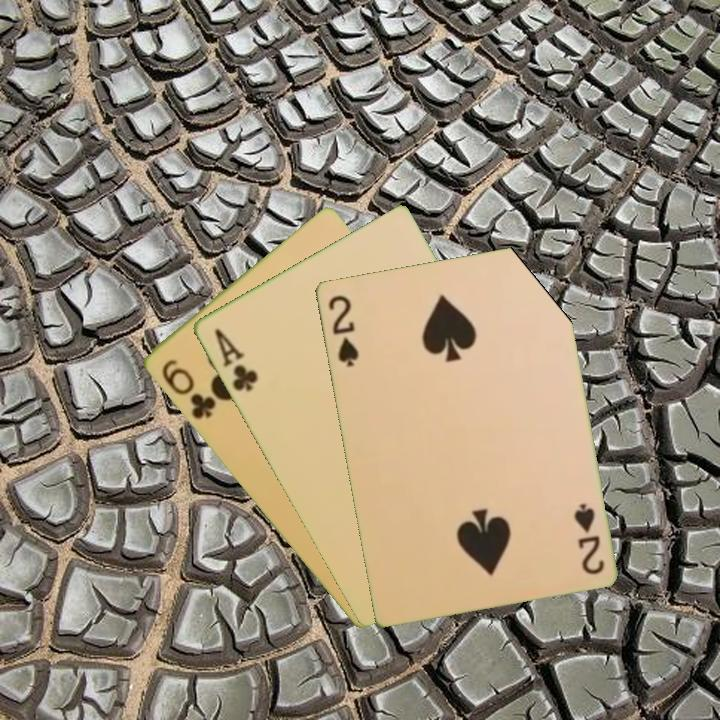2s: (324, 291, 361, 369), (570, 499, 607, 577)
6c: (157, 355, 219, 423)
Ac: (210, 324, 261, 394)
